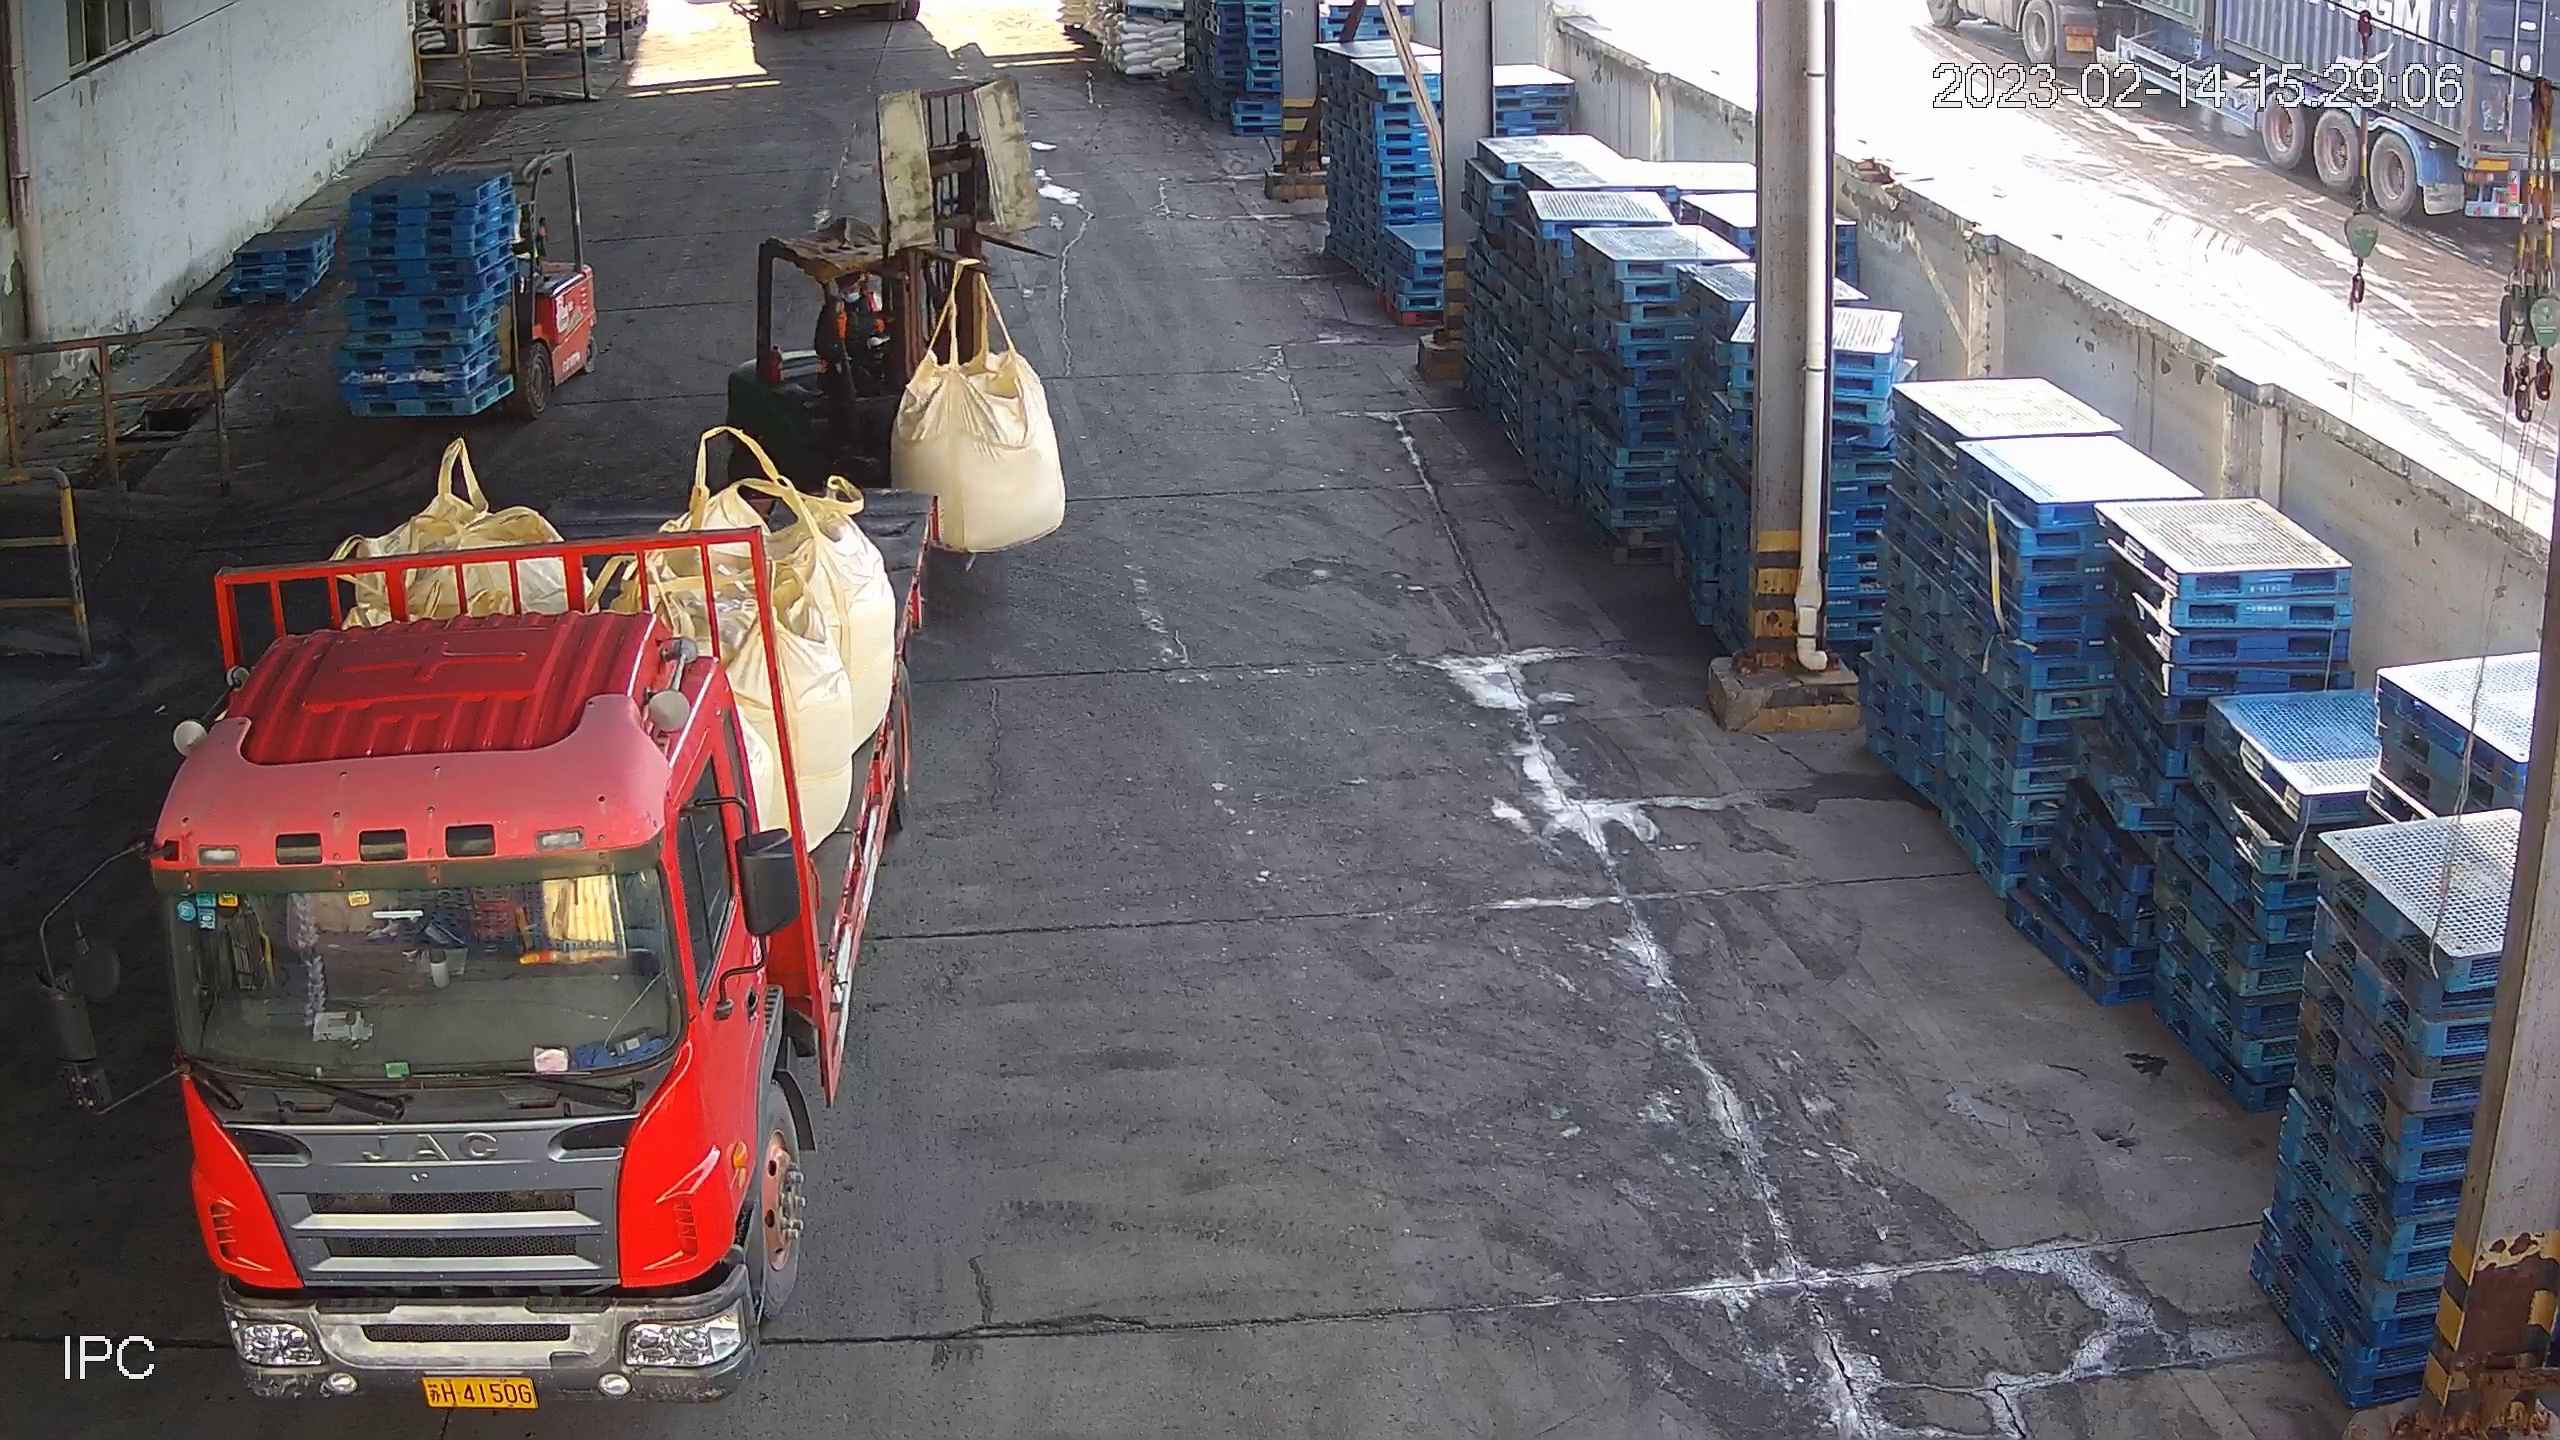truck: (33, 485, 941, 1405)
